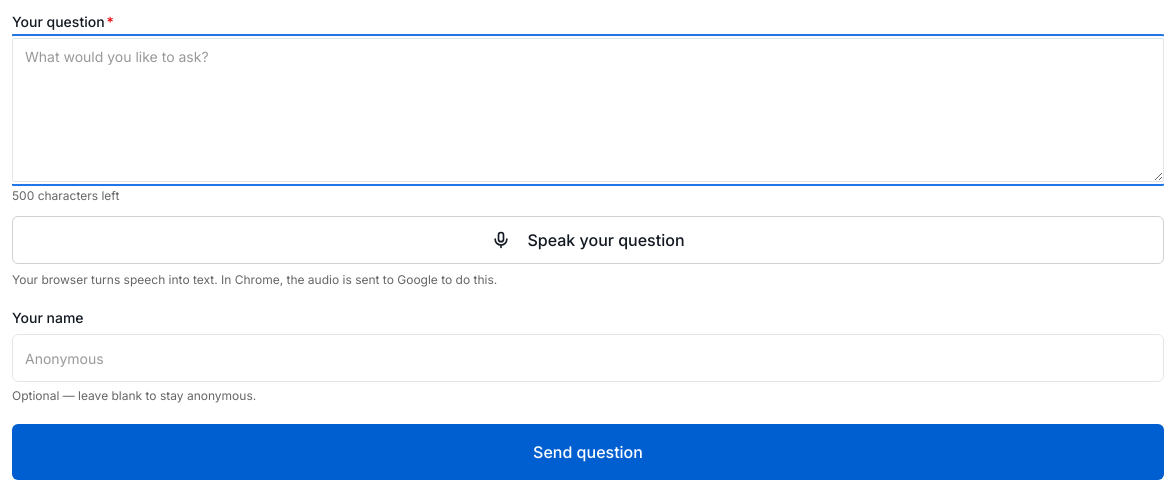
Test: client-side validation › counts down the characters remaining
This screenshot has width=1176, height=497.
Type "hello" into the text box labelled "Your question*".
click(588, 110); type("hello")  # box x1=12 y1=38 x2=1164 y2=182
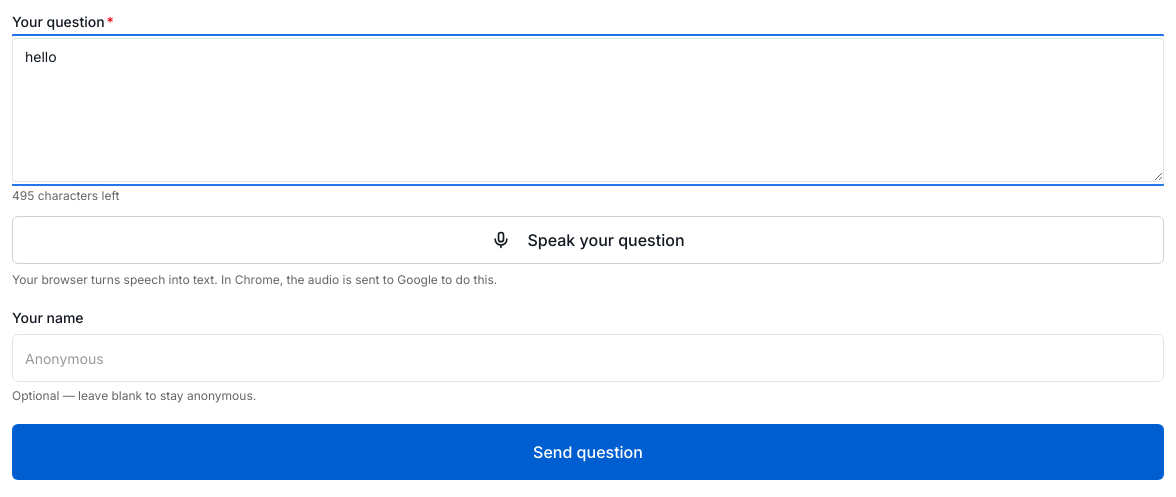
expect the text "495 characters left" is shown: met, box x1=12 y1=188 x2=119 y2=203
